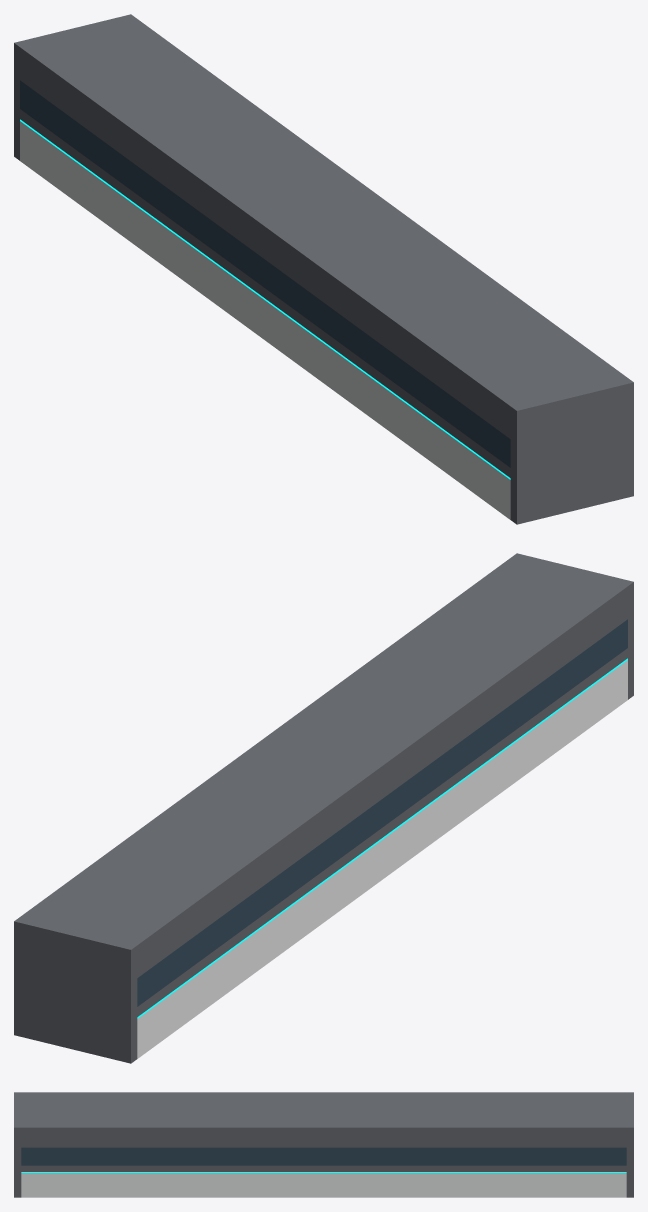
File: middle_1_far.fbx
3 renders of one model, top to bottom at view 1: azimuth 30°, elevation 25°; view 2: azimuth 150°, elevation 25°; view 3: azimuth 270°, elevation 25°, orthographic. The views are drawn at different scales.
Visible parts, largest first — view 1: 23_middle_1_far; view 2: 23_middle_1_far; view 3: 23_middle_1_far.
Part boxes in pixels (x1,y1,x2,y2): 23_middle_1_far: [14, 14, 633, 524]; 23_middle_1_far: [14, 553, 633, 1063]; 23_middle_1_far: [14, 1092, 633, 1197].
Bounding box in the file's own units: 3.37 × 3.12 × 25.
